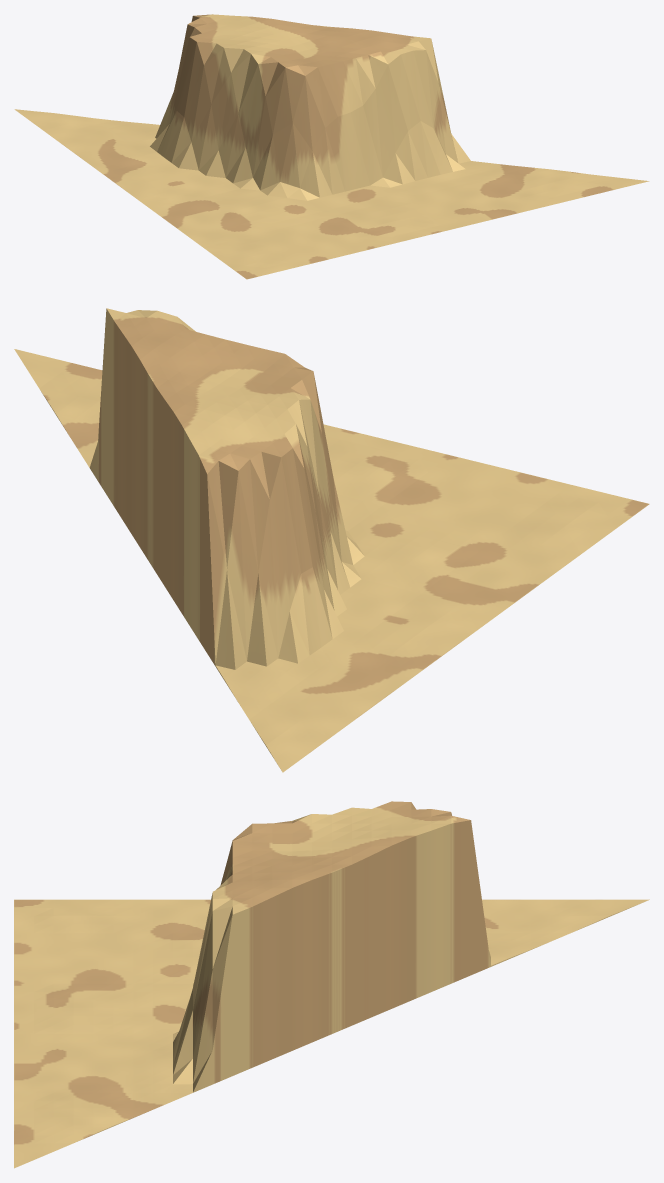
The model's file is Desert_Mountains_12_NW.obj.
3 views of the same model, one above another, from view 1: azimuth 30°, elevation 25°; view 2: azimuth 150°, elevation 25°; view 3: azimuth 270°, elevation 25° (orthographic). The views are drawn at different scales.
Size of the model in its own units: 10 by 2.83 by 10.
Materials: 1 (1 with a texture image).
